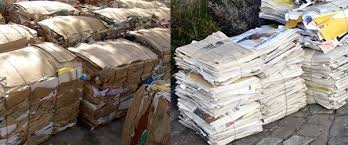paper: (261, 2, 348, 53), (173, 34, 263, 83), (170, 71, 262, 116), (250, 61, 315, 122), (174, 104, 269, 145), (235, 23, 309, 68)
